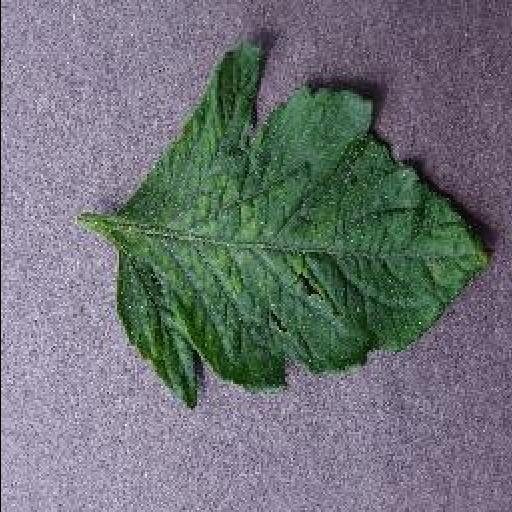disease_tomato: (113, 42, 495, 410)
